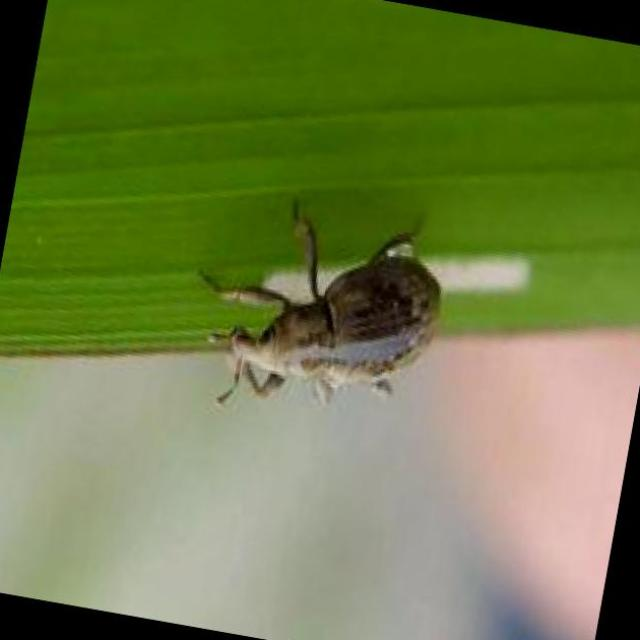ricebug: (202, 203, 440, 404)
